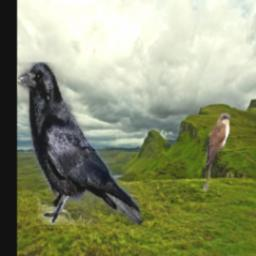Crow: (18, 62, 142, 225)
Cuckoo: (204, 115, 230, 193)
